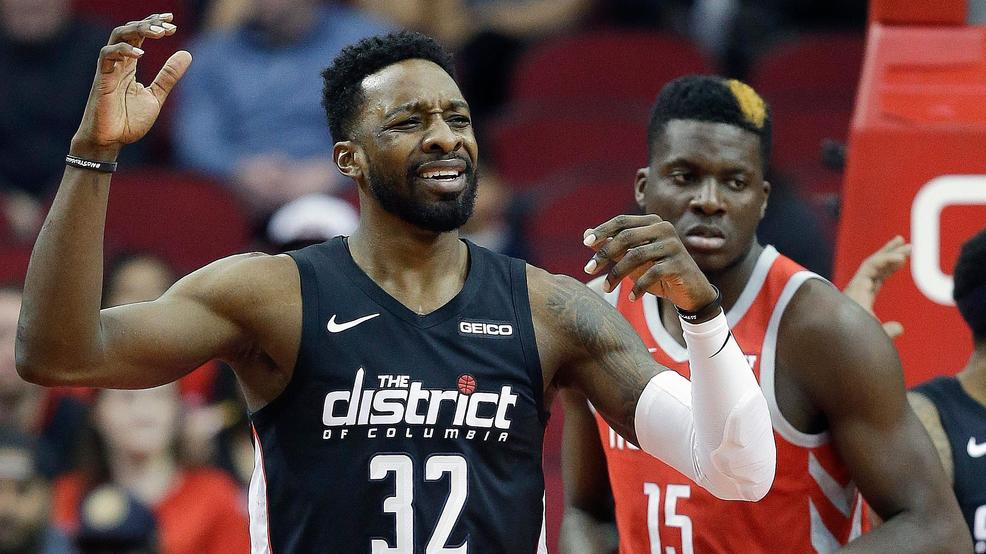Geico: (458, 313, 515, 339)
